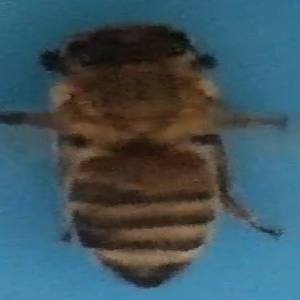bee: (15, 18, 290, 293)
